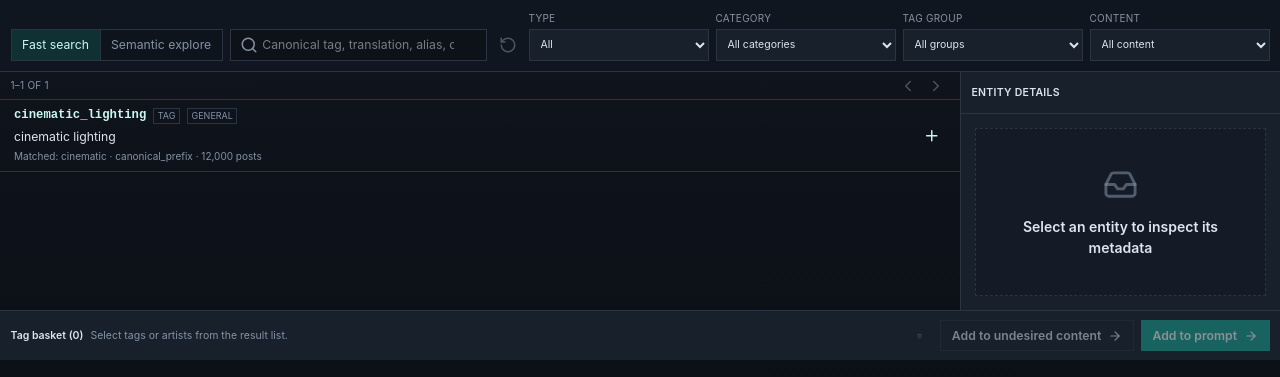
Scenario: LexiconPage semantic resilience › allows returning to fast search while a semantic request is still running
The width and height of the screenshot is (1280, 377).
Expected: the text "cinematic_lighting" is shown, 14,107 -> 146,124
Type "cinematic" into the field named "Search the lexicon" at [358, 45], box 230,29 -> 486,60
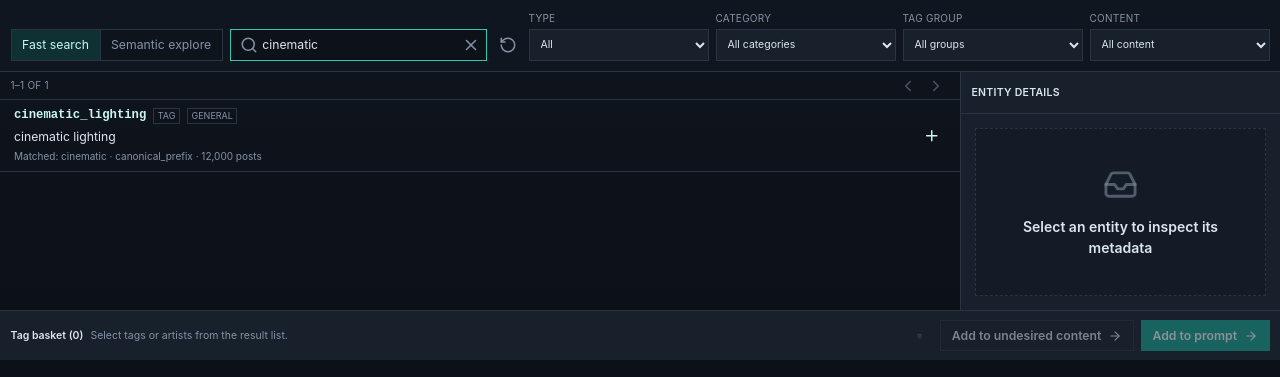
Click the tab "Semantic explore" at [161, 45], box 100,30 -> 222,60
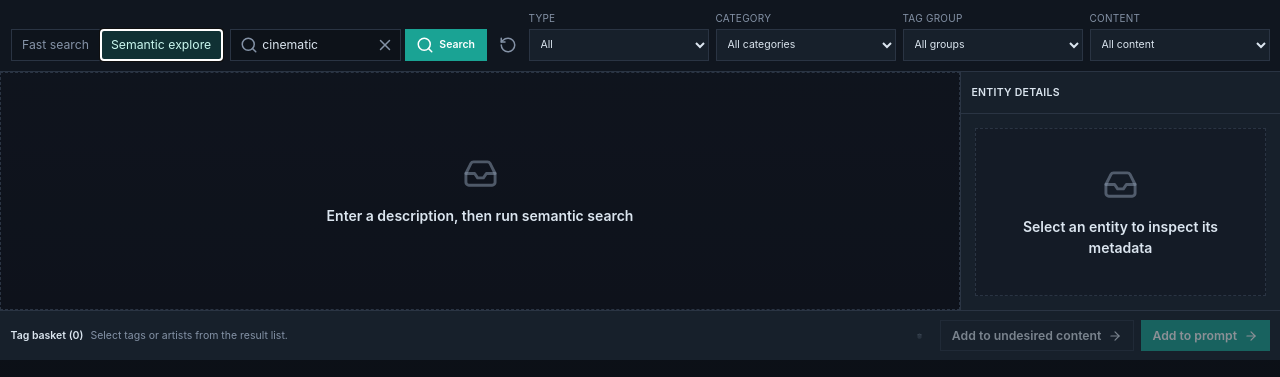
Click the button "Search" at [446, 45], box 405,29 -> 486,60
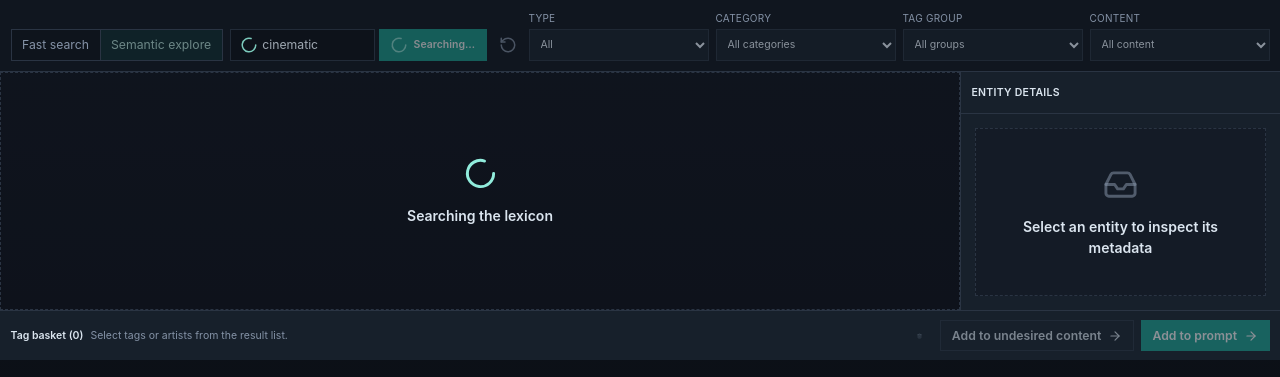
Expected: the field named "Search the lexicon" is disabled, 230,29 -> 375,60
Click the tab "Fast search" at [56, 45], box 12,30 -> 100,60
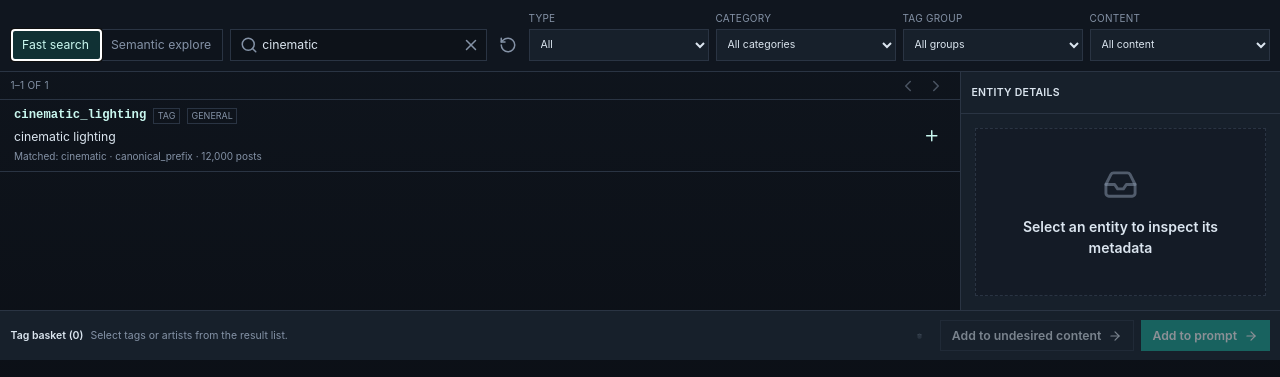
Expected: the field named "Search the lexicon" is enabled, 230,29 -> 486,60
Expected: the text "cinematic_lighting" is shown, 14,107 -> 146,124
